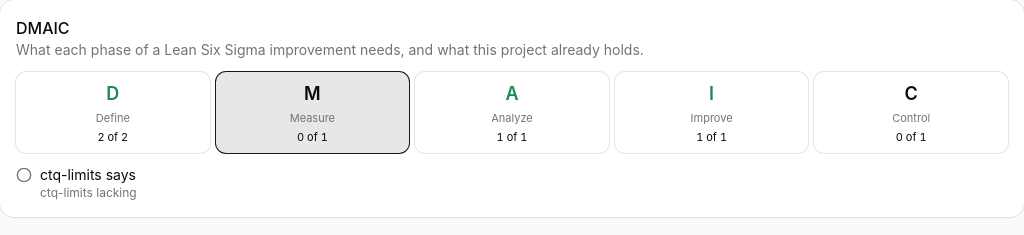
Test: DMAIC › opens on the first phase lacking something, and moves between phases
This screenshot has width=1024, height=235.
Expected: the text "ctq-limits lacking" is shown, [40,185,137,201]
Step 1. Click the tab "C Control 0 of 1" → click(911, 112), box [814,72,1008,153]
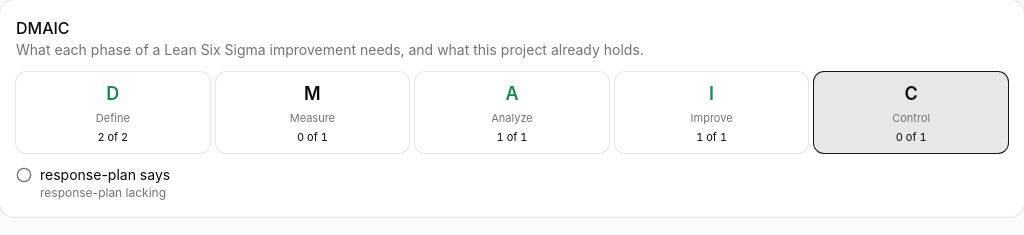
Result: the text "response-plan lacking" is shown at [40,185,170,201]
